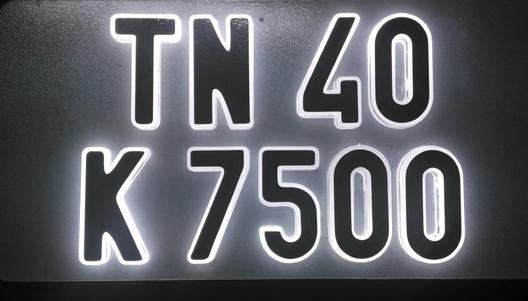0: (396, 143, 469, 263), (365, 11, 436, 127), (327, 143, 391, 262)
4: (296, 10, 368, 129)
5: (253, 144, 323, 263)
7: (181, 141, 249, 263)
K: (77, 142, 154, 264)
N: (184, 11, 253, 128)
T: (108, 8, 178, 128)
